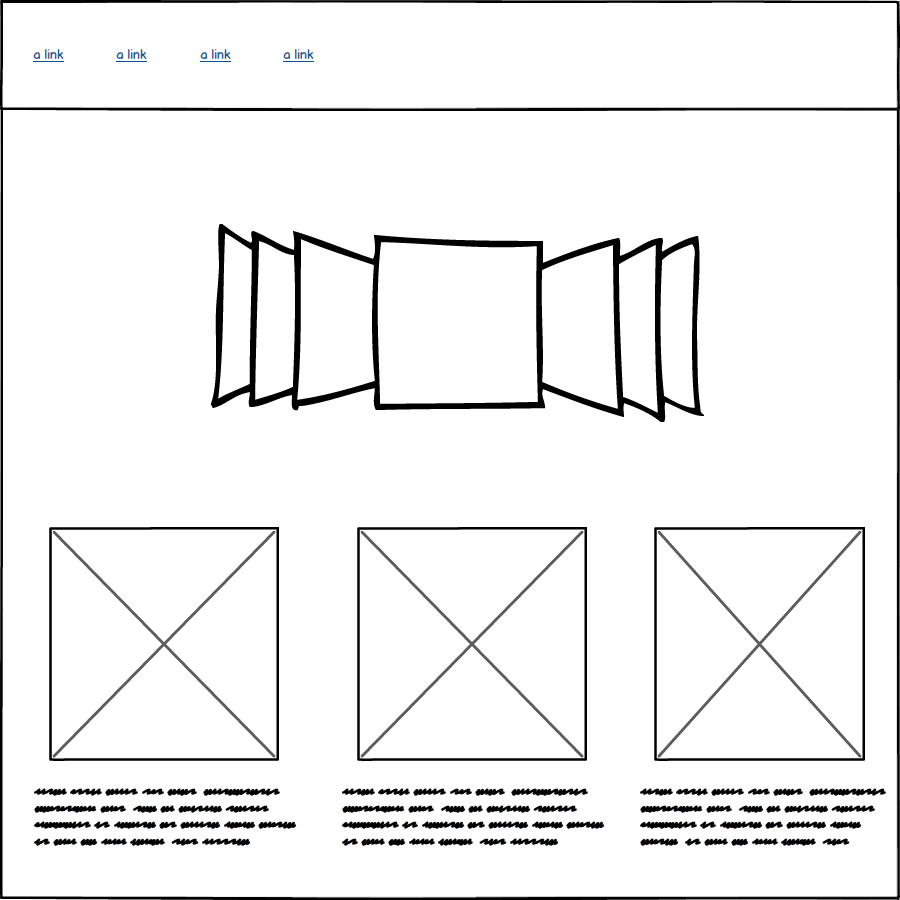image: (348, 517, 590, 764), (42, 519, 285, 763), (649, 521, 870, 764)
label: (338, 780, 607, 858), (635, 778, 886, 859), (27, 781, 300, 851)
navlink: (105, 43, 163, 71), (197, 38, 238, 71), (26, 44, 76, 69), (275, 43, 323, 67)
slideshow: (201, 212, 723, 434)
